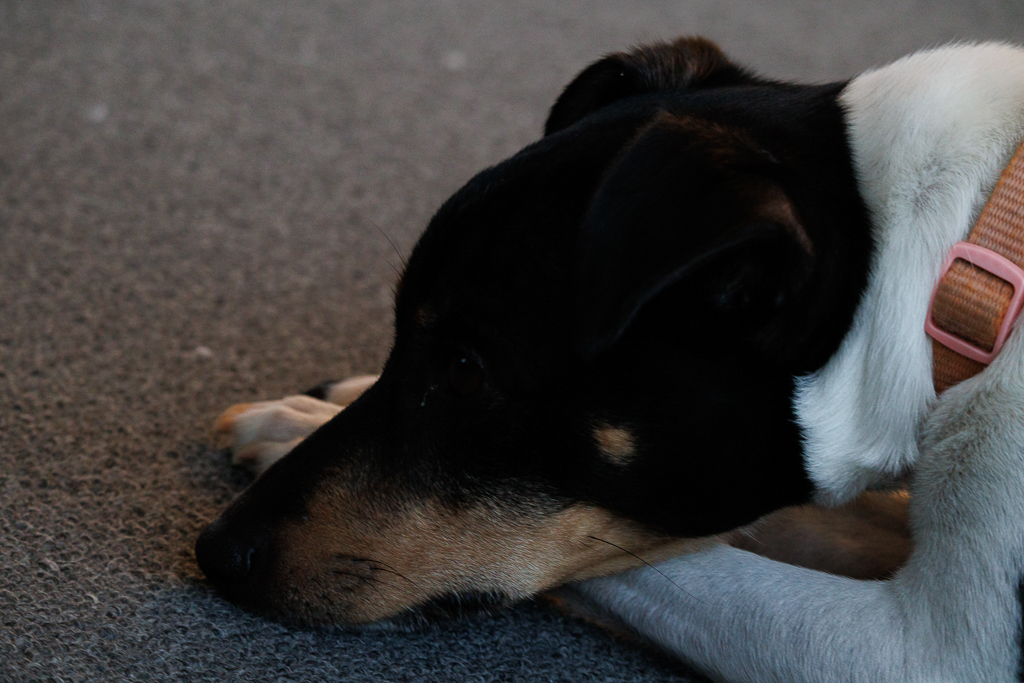Dog: (177, 25, 1024, 683)
